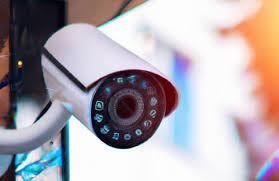tutu: (37, 20, 183, 152)
